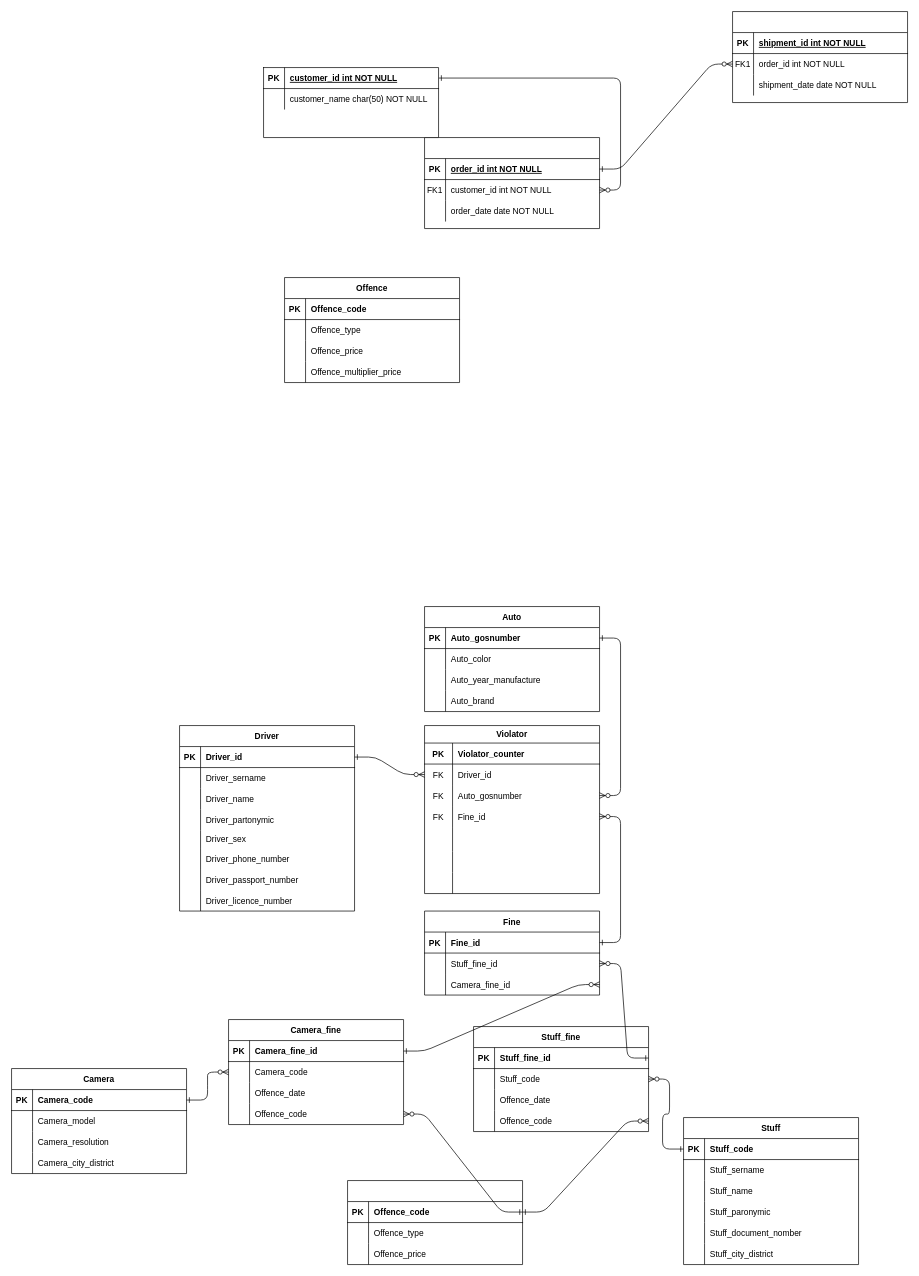
The diagram is 919 pixels wide and 1276 high, and some of its shapes have lost their labels. Here are the shapes that lost their labels. From the top down, the box of each, then its label:
(732, 11, 908, 103): Shipments
(263, 67, 439, 138): Customers
(424, 137, 600, 229): Orders
(347, 1180, 523, 1265): Offence_price_list
